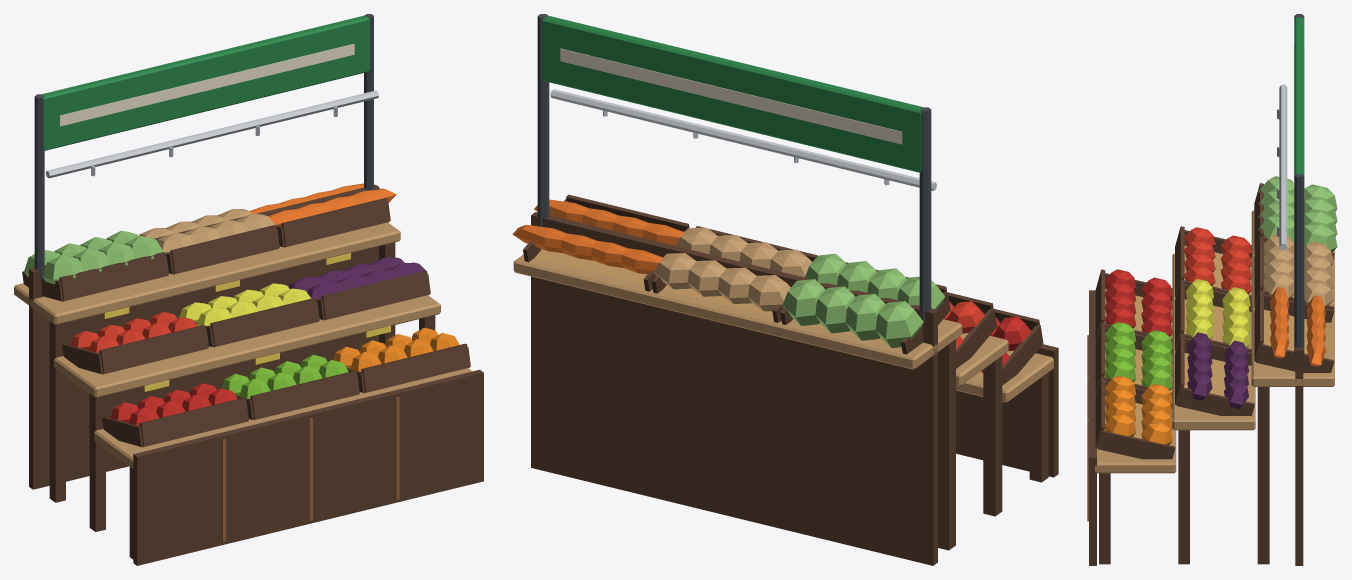
The model's file is Produce_Table_Tiered_Market.fbx.
3 renders of one model, left to right at view 1: azimuth 30°, elevation 25°; view 2: azimuth 150°, elevation 25°; view 3: azimuth 270°, elevation 25°, orthographic. The views are drawn at different scales.
Parts seen in each view (by area): view 1: Produce_Table_Tiered_Market; view 2: Produce_Table_Tiered_Market; view 3: Produce_Table_Tiered_Market.
Boxes of the visible parts, x1=… form: Produce_Table_Tiered_Market: x1=14, y1=14, x2=483, y2=565; Produce_Table_Tiered_Market: x1=512, y1=14, x2=1058, y2=565; Produce_Table_Tiered_Market: x1=1087, y1=14, x2=1337, y2=565.
Bounding box in the file's own units: 2.04 × 2.15 × 1.26.
1 material, 1 textured.
